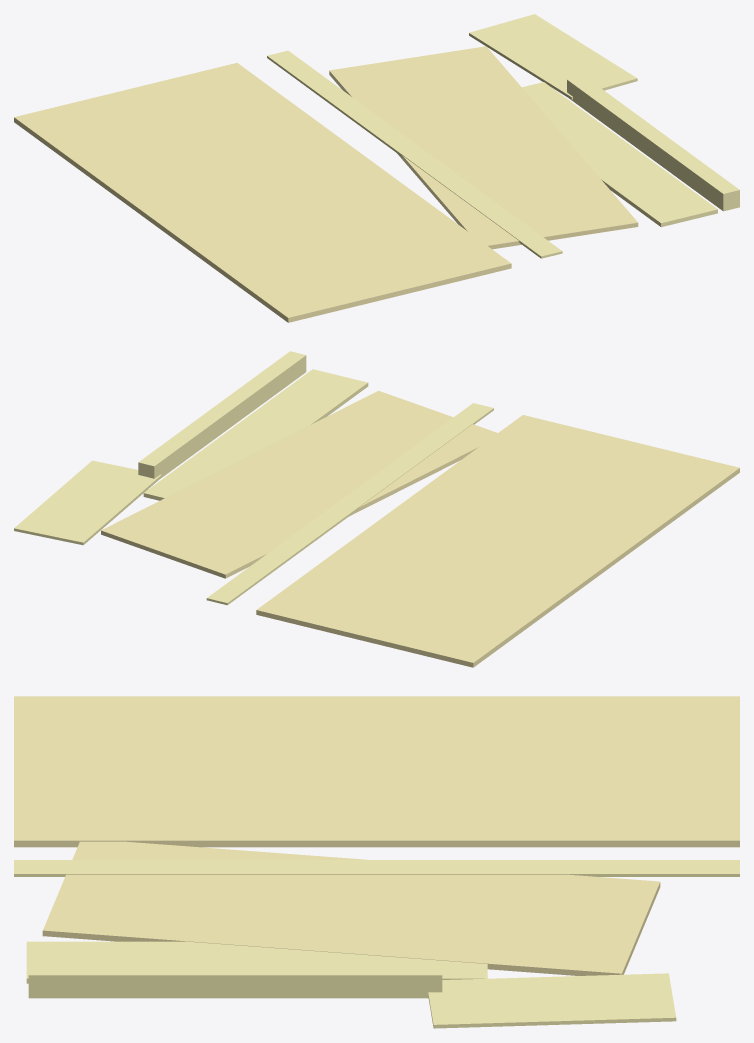
File: road_bus_bay_pullout_lane.glb
3 renders of one model, top to bottom at view 1: azimuth 30°, elevation 25°; view 2: azimuth 150°, elevation 25°; view 3: azimuth 270°, elevation 25°, orthographic. The views are drawn at different scales.
Visible parts, largest first — view 1: through_lane, bus_bay_pullout, bay_apron, gutter_band, shelter_pad, curb_segment; view 2: through_lane, bus_bay_pullout, bay_apron, shelter_pad, gutter_band, curb_segment; view 3: through_lane, bus_bay_pullout, curb_segment, shelter_pad, gutter_band, bay_apron.
Boxes of the visible parts, x1=… form: through_lane: x1=14, y1=63, x2=511, y2=322; bus_bay_pullout: x1=329, y1=46, x2=638, y2=249; bay_apron: x1=522, y1=82, x2=717, y2=227; gutter_band: x1=267, y1=50, x2=562, y2=258; shelter_pad: x1=469, y1=14, x2=637, y2=99; curb_segment: x1=567, y1=75, x2=739, y2=211; through_lane: x1=256, y1=415, x2=739, y2=667; bus_bay_pullout: x1=101, y1=390, x2=497, y2=578; bay_apron: x1=143, y1=369, x2=368, y2=500; shelter_pad: x1=14, y1=460, x2=161, y2=545; gutter_band: x1=206, y1=403, x2=493, y2=605; curb_segment: x1=138, y1=351, x2=306, y2=478; through_lane: x1=14, y1=696, x2=739, y2=847; bus_bay_pullout: x1=42, y1=841, x2=660, y2=975; curb_segment: x1=28, y1=964, x2=442, y2=998; shelter_pad: x1=428, y1=973, x2=676, y2=1028; gutter_band: x1=14, y1=860, x2=739, y2=876; bay_apron: x1=26, y1=941, x2=487, y2=983.
Size of the model in its own units: 4.28 by 0.14 by 4.
